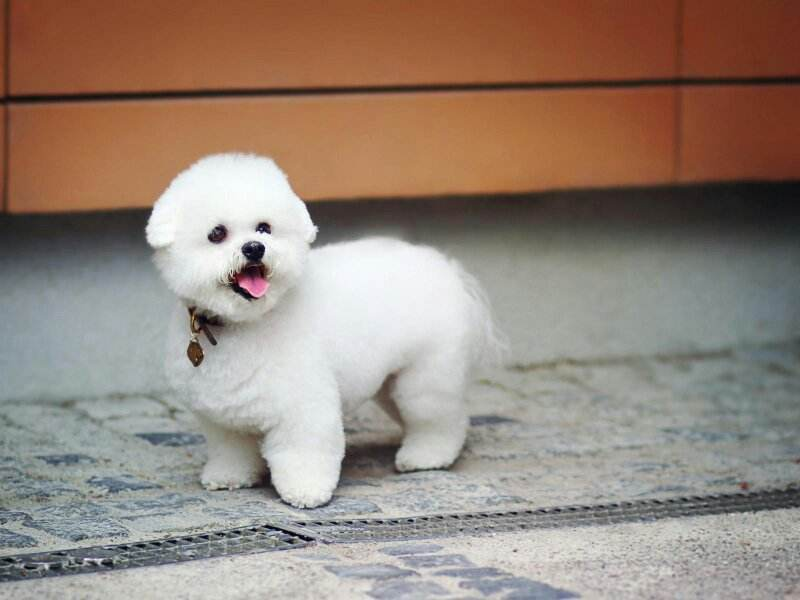dog: (123, 121, 324, 326)
